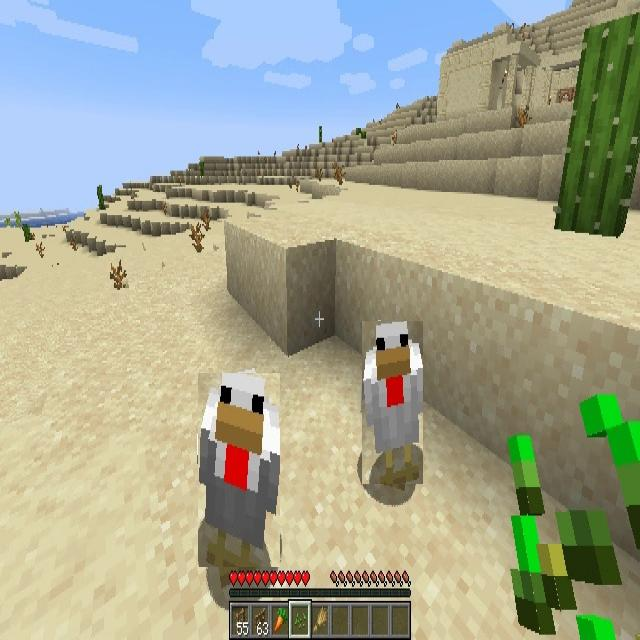duck: (198, 373, 280, 567), (362, 321, 423, 484)
